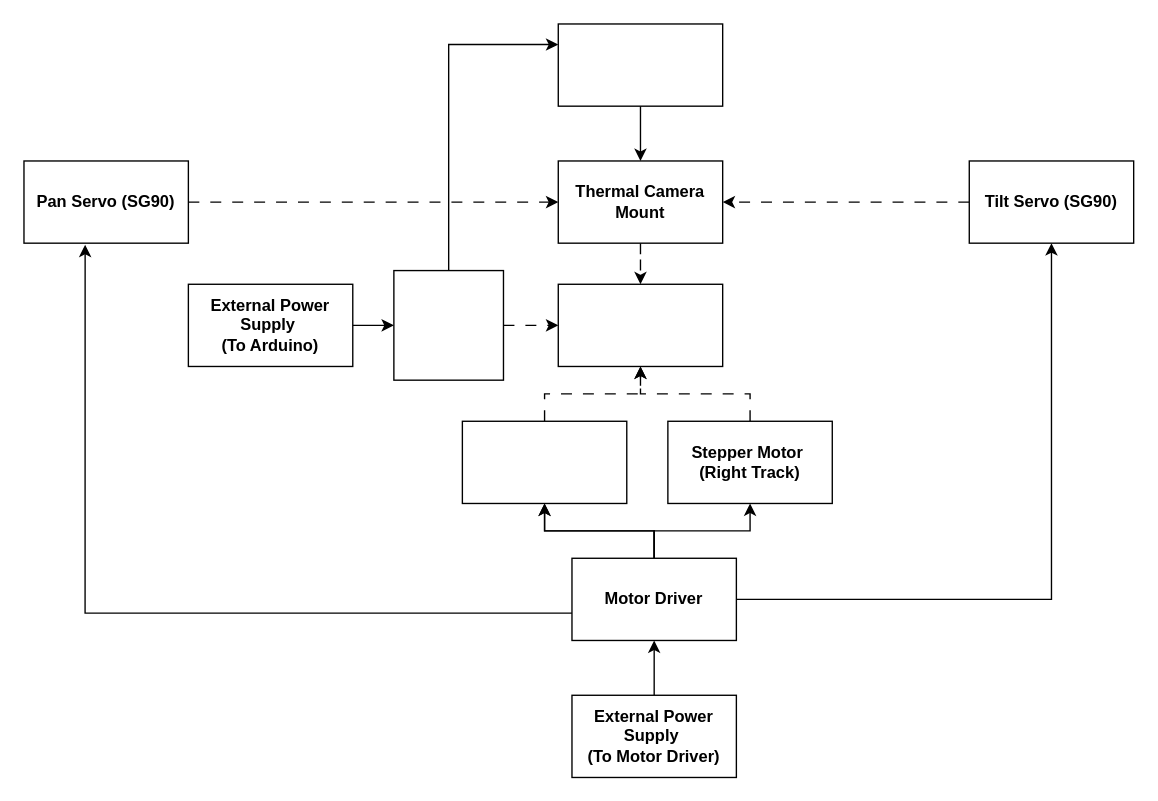
This 1158x801 diagram has some shape labels left out. Each missing label, with the centre of its shape:
8x8 IR Thermal Camera Sensor Array: [640,64]
Arduino UNO R3: [448,324]
Stepper Motor (Left Track): [544,461]
Tank Chassis: [640,324]
